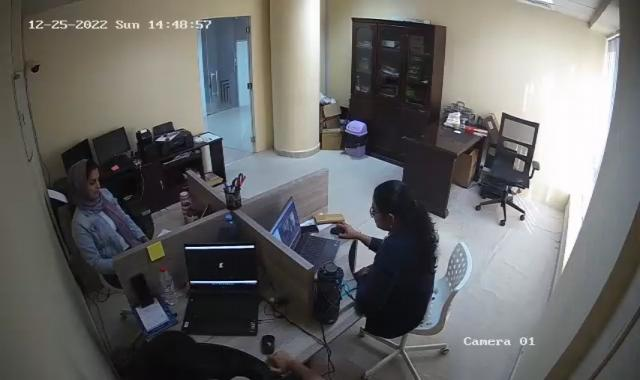no_hairnet: (369, 180, 420, 226), (145, 334, 192, 376), (68, 161, 100, 203)
